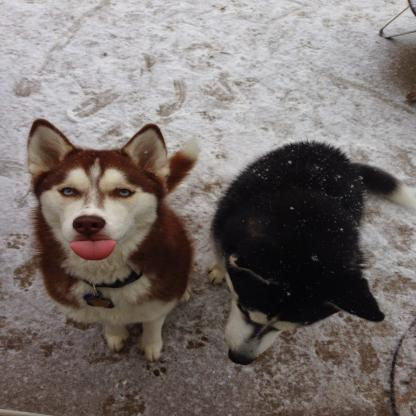dog: (21, 115, 197, 358), (211, 142, 399, 361)
